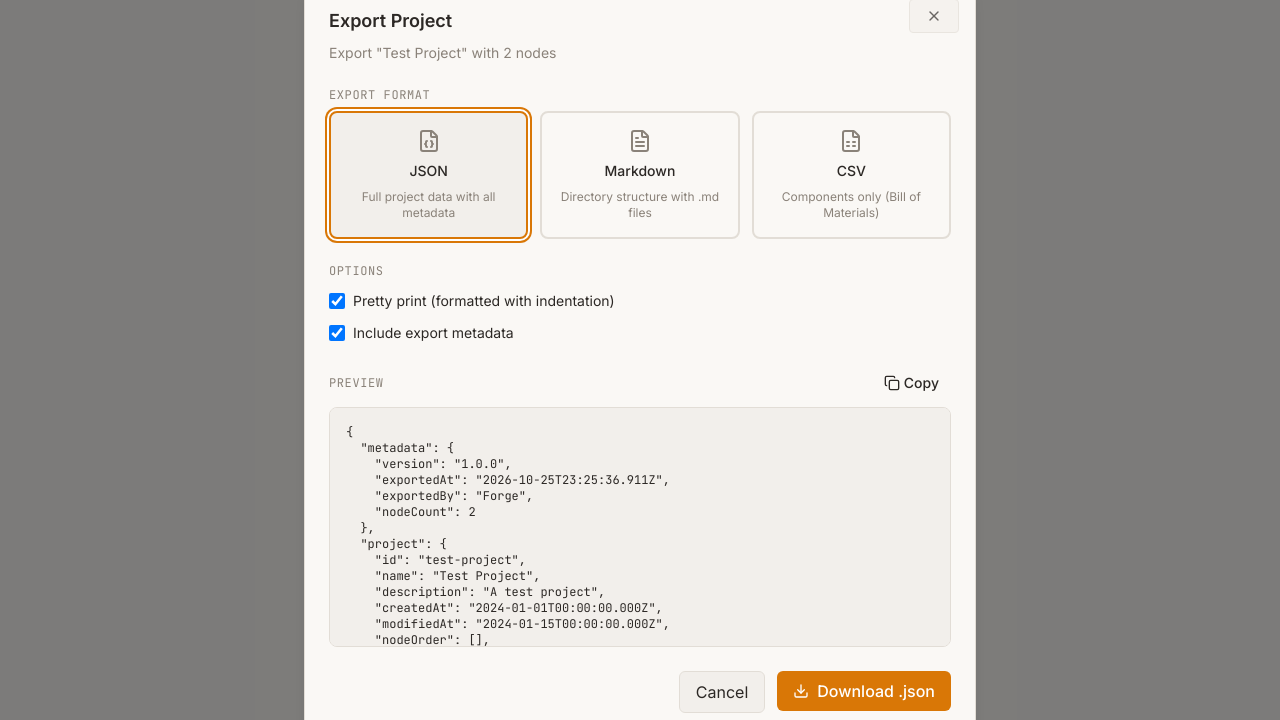
it: ExportDialog › CSV options › shows CSV options when CSV format selected
Click the radio button labelled "CSV Components only (Bill of Materials)".
click(851, 175)  # box [752,111,951,239]
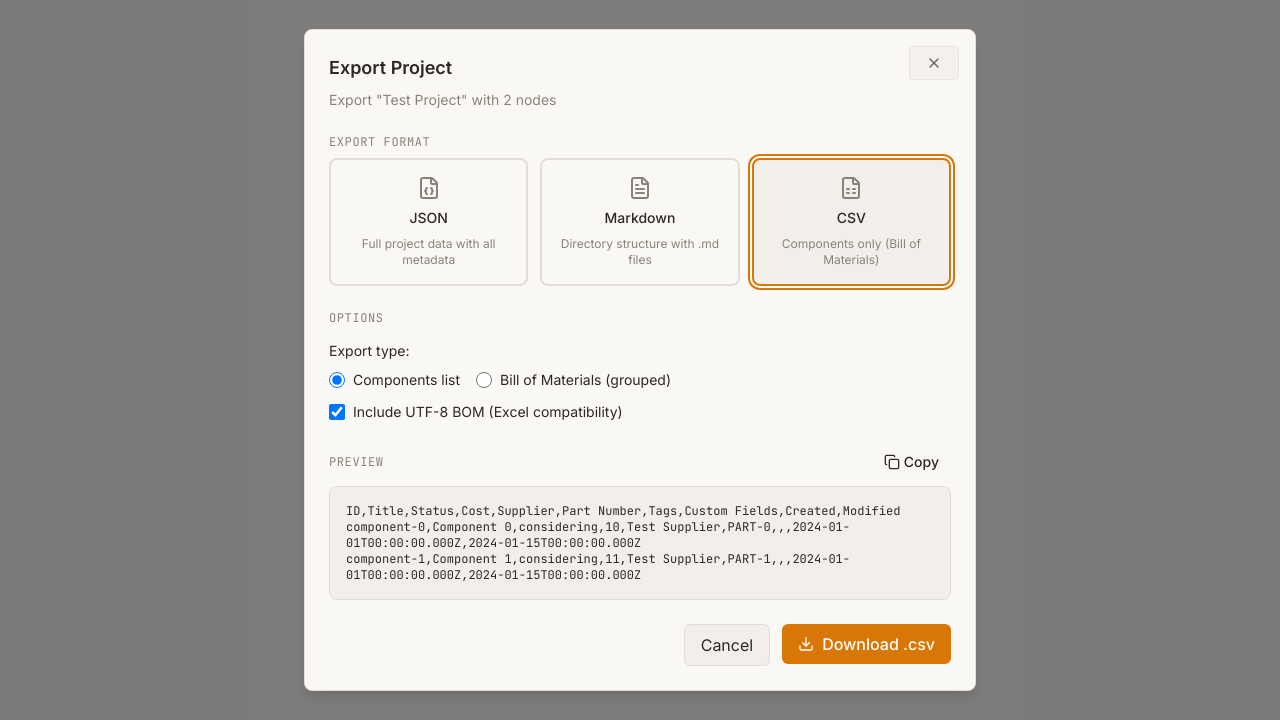
Expected: the radio button labelled "Components list" is shown, [329,372,345,388]
Expected: the radio button labelled "Bill of Materials (grouped)" is shown, [476,372,492,388]
